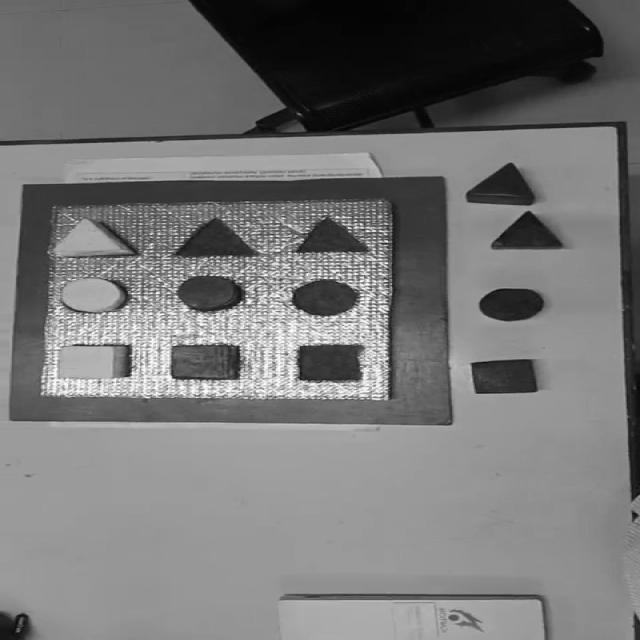bcircle: (477, 287, 546, 322)
bcube: (469, 358, 540, 394)
btriangle: (490, 212, 562, 250)
mtcircle: (291, 279, 359, 316)
mtcube: (296, 344, 364, 382)
mttriangle: (175, 217, 258, 257), (292, 217, 369, 255)
rcircle: (176, 275, 240, 311)
rcube: (169, 344, 240, 380)
rtriangle: (465, 162, 534, 206)
wb: (36, 199, 397, 402)
ycircle: (57, 276, 130, 314)
ycube: (55, 344, 130, 380)
ytriangle: (50, 217, 137, 259)
